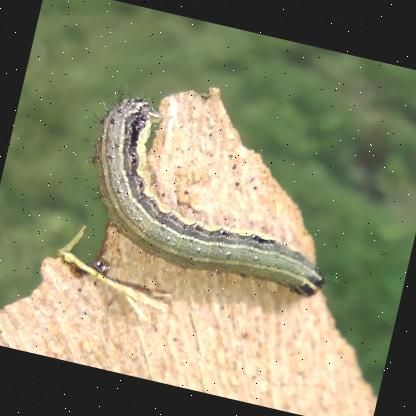Fall Armyworm Larvae: (52, 73, 375, 315)
